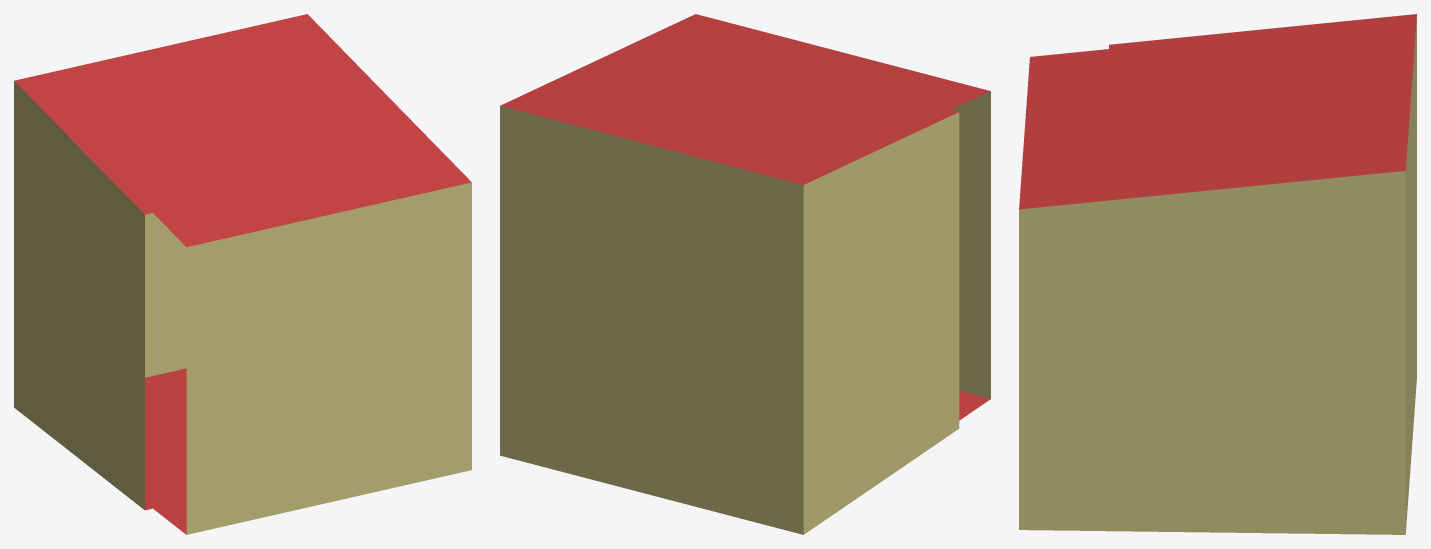
3 renders of one model, left to right at view 1: azimuth 30°, elevation 25°; view 2: azimuth 150°, elevation 25°; view 3: azimuth 270°, elevation 25°, orthographic. The views are drawn at different scales.
Bounding box in the file's own units: 7 × 7.32 × 7.39.
